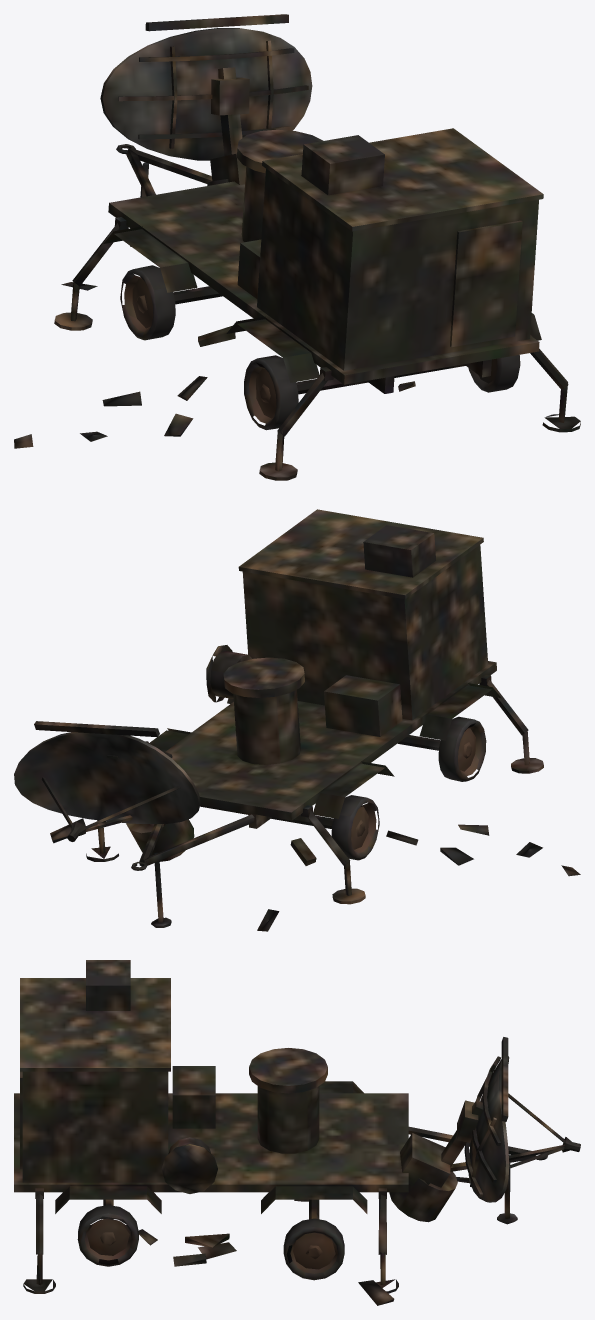
The model's file is radar_destroyed_lod1.glb.
3 views of the same model, one above another, from view 1: azimuth 30°, elevation 25°; view 2: azimuth 150°, elevation 25°; view 3: azimuth 270°, elevation 25° (orthographic). The views are drawn at different scales.
Parts seen in each view (by area): view 1: trailer, dish, debris; view 2: trailer, dish, debris; view 3: trailer, dish, debris.
Part boxes in pixels (x1=…): trailer: x1=54, y1=128, x2=580, y2=480; dish: x1=100, y1=14, x2=312, y2=185; debris: x1=14, y1=282, x2=415, y2=448; trailer: x1=86, y1=509, x2=543, y2=927; dish: x1=14, y1=721, x2=200, y2=861; debris: x1=50, y1=818, x2=580, y2=931; trailer: x1=14, y1=960, x2=548, y2=1293; dish: x1=389, y1=1037, x2=580, y2=1222; debris: x1=138, y1=1177, x2=469, y2=1305.
Bounding box in the file's own units: 5.74 × 3.17 × 6.61.
Materials: 1 (1 with a texture image).
